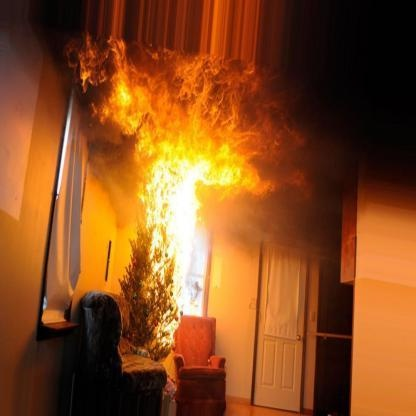fire: (48, 1, 287, 352)
